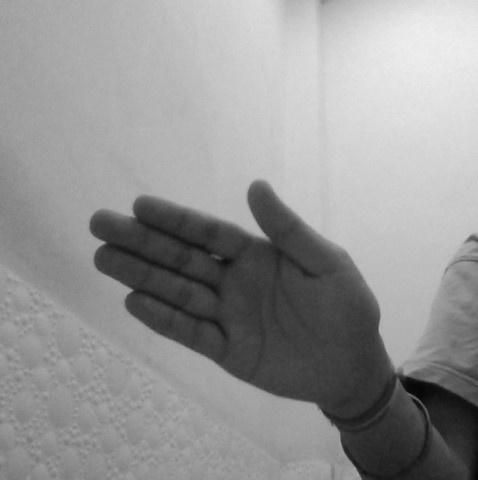Hello: (85, 177, 381, 409)
